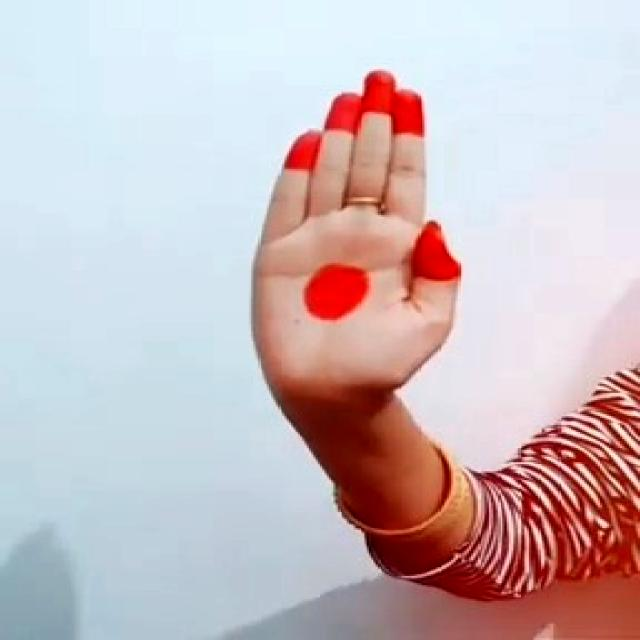Pataka: (253, 51, 480, 416)
bangle: (312, 444, 494, 548)
